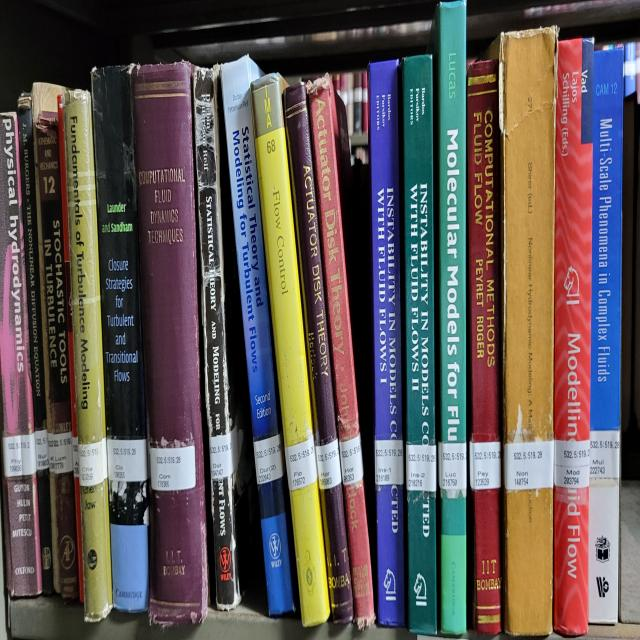Book: (251, 73, 330, 625), (132, 62, 208, 625), (490, 27, 558, 636), (221, 57, 295, 614), (284, 84, 354, 625), (308, 76, 375, 628), (192, 68, 252, 609), (91, 65, 149, 611), (64, 89, 112, 622), (32, 84, 79, 601), (554, 41, 594, 636), (435, 0, 468, 633), (402, 57, 438, 633), (0, 114, 42, 595), (370, 62, 405, 625), (589, 49, 622, 625), (468, 60, 501, 633), (18, 95, 54, 595)
Label: (502, 429, 557, 495), (149, 441, 200, 496), (108, 428, 150, 494), (556, 422, 591, 498), (467, 434, 505, 496), (438, 436, 469, 498), (372, 440, 406, 496), (76, 435, 107, 490), (250, 440, 286, 486), (592, 425, 620, 483), (406, 442, 438, 492), (47, 424, 74, 481), (284, 443, 316, 490), (314, 443, 342, 492), (208, 442, 242, 482), (2, 440, 37, 478), (338, 438, 364, 485), (31, 430, 48, 469)
